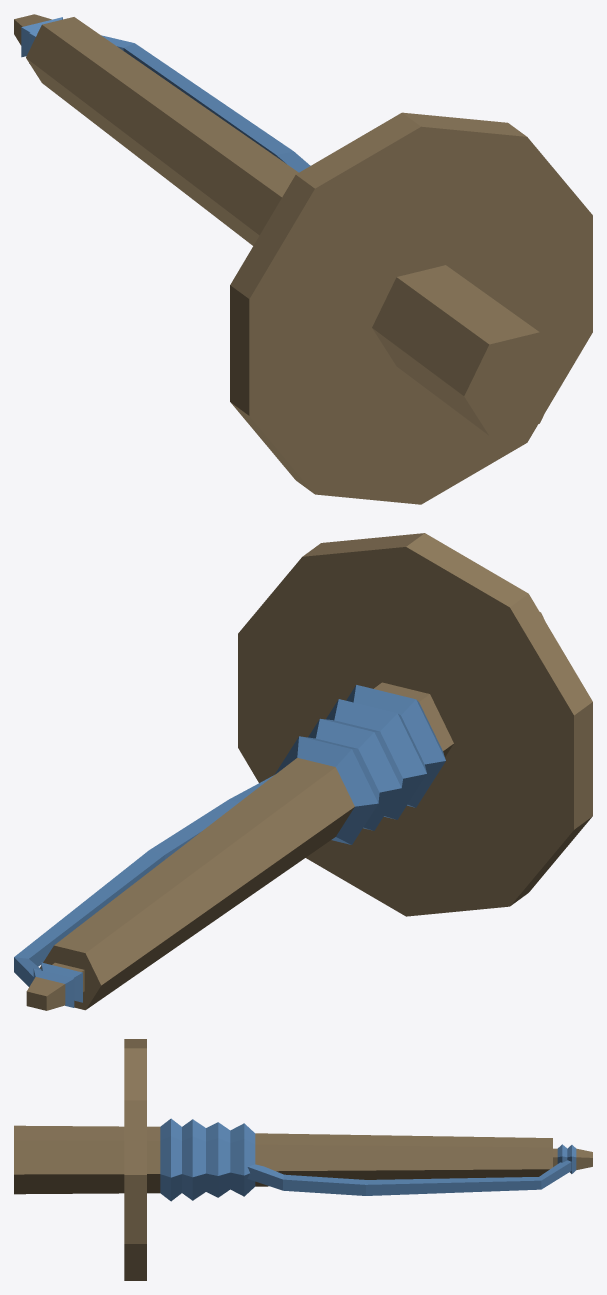
The model's file is rpgpp_ag_cloth_tool_03.fbx.
3 views of the same model, one above another, from view 1: azimuth 30°, elevation 25°; view 2: azimuth 150°, elevation 25°; view 3: azimuth 270°, elevation 25° (orthographic). The views are drawn at different scales.
Visible parts, largest first — view 1: rpgpp_ag_cloth_tool_03; view 2: rpgpp_ag_cloth_tool_03; view 3: rpgpp_ag_cloth_tool_03.
Boxes of the visible parts, x1,y1,x2,y2 form: rpgpp_ag_cloth_tool_03: [14, 14, 592, 504]; rpgpp_ag_cloth_tool_03: [14, 533, 592, 1010]; rpgpp_ag_cloth_tool_03: [14, 1039, 592, 1280].
Size of the model in its own units: 0.1599 by 0.1681 by 0.3953.
